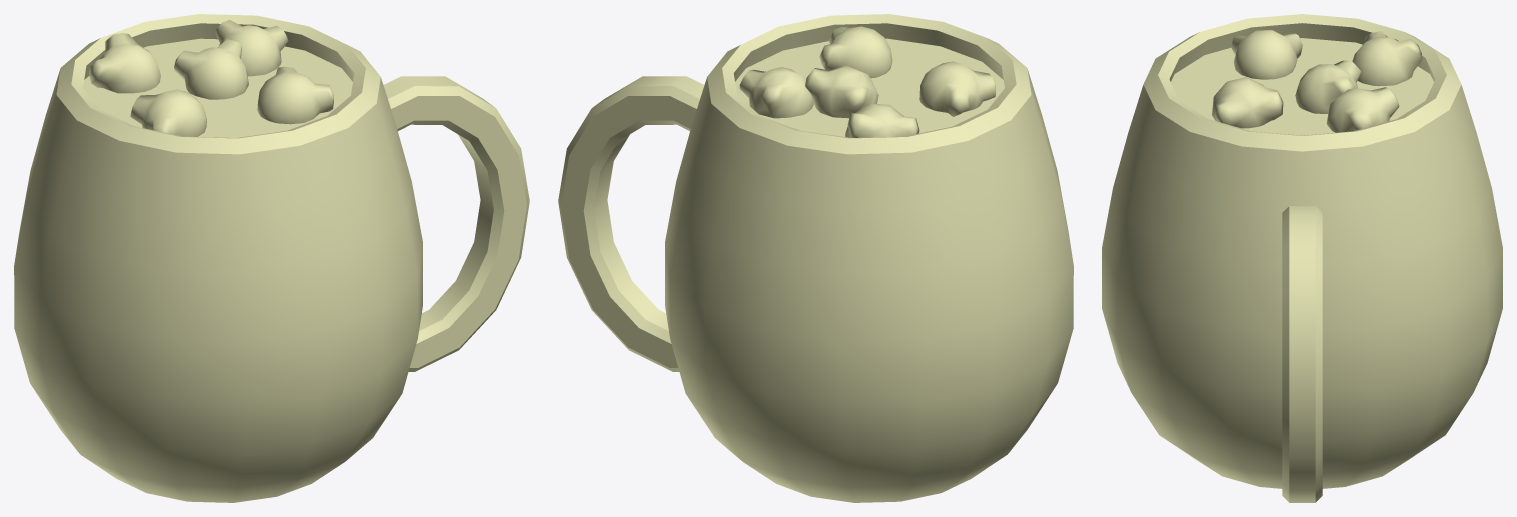
Rendered from PROPS_GOODS_HOTCHOCOLATE_MODEL_grp.fbx.
3 renders of one model, left to right at view 1: azimuth 30°, elevation 25°; view 2: azimuth 150°, elevation 25°; view 3: azimuth 270°, elevation 25°, orthographic. The views are drawn at different scales.
Visible parts, largest first — view 1: PROPS_GOODS_CHOCOLATECUP_MODEL, PROPS_GOODS_HOTCHOCOLATE_MODEL; view 2: PROPS_GOODS_CHOCOLATECUP_MODEL, PROPS_GOODS_HOTCHOCOLATE_MODEL; view 3: PROPS_GOODS_CHOCOLATECUP_MODEL, PROPS_GOODS_HOTCHOCOLATE_MODEL.
Boxes of the visible parts, x1,y1,x2,y2 form: PROPS_GOODS_CHOCOLATECUP_MODEL: (14,14,529,502); PROPS_GOODS_HOTCHOCOLATE_MODEL: (83,20,352,137); PROPS_GOODS_CHOCOLATECUP_MODEL: (558,14,1073,502); PROPS_GOODS_HOTCHOCOLATE_MODEL: (735,26,1004,137); PROPS_GOODS_CHOCOLATECUP_MODEL: (1102,14,1502,502); PROPS_GOODS_HOTCHOCOLATE_MODEL: (1171,30,1433,135).
Bounding box in the file's own units: 11.25 × 9.11 × 8.32.
